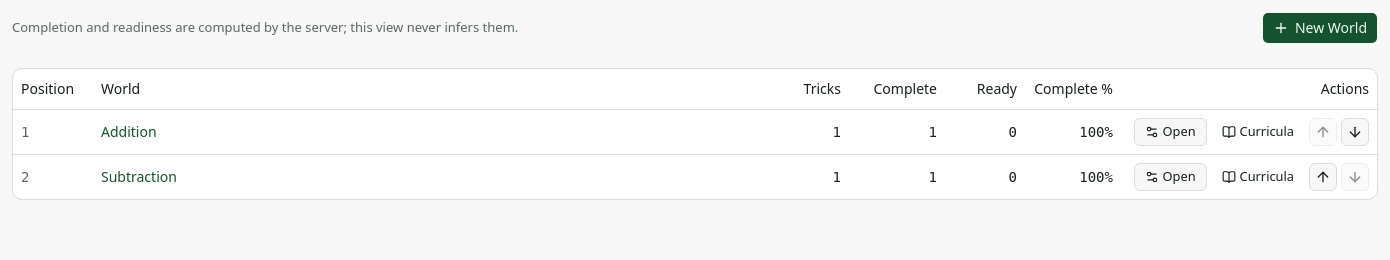
Test: WorldList › sends the explicit ordered id array when reordering Worlds
Click the button named "Move Addition down" at (1355, 132), box x1=1341 y1=118 x2=1369 y2=146
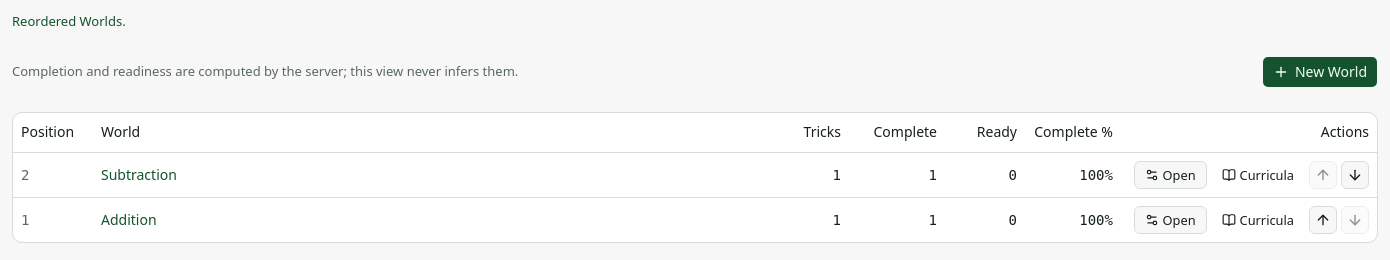
Check: the text "Reordered Worlds." is shown, box x1=12 y1=12 x2=126 y2=30
